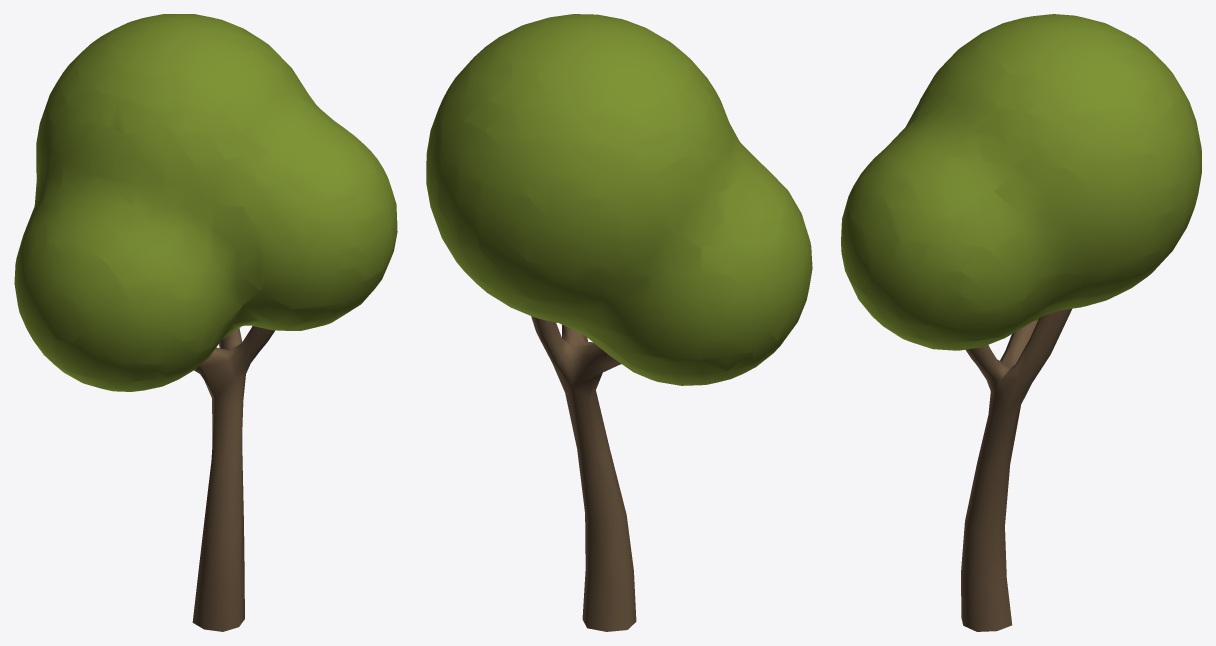
Rendered from Tree3_Env.fbx.
The picture shows the model from 3 angles, left to right: view 1: azimuth 30°, elevation 25°; view 2: azimuth 150°, elevation 25°; view 3: azimuth 270°, elevation 25°; orthographic projection. The views are drawn at different scales.
Parts seen in each view (by area): view 1: Tree_1.001; view 2: Tree_1.001; view 3: Tree_1.001.
Part boxes in pixels (x1,y1,x2,y2): Tree_1.001: [14, 14, 397, 631]; Tree_1.001: [426, 14, 812, 631]; Tree_1.001: [841, 14, 1201, 631].
Size of the model in its own units: 141 by 235 by 130.
